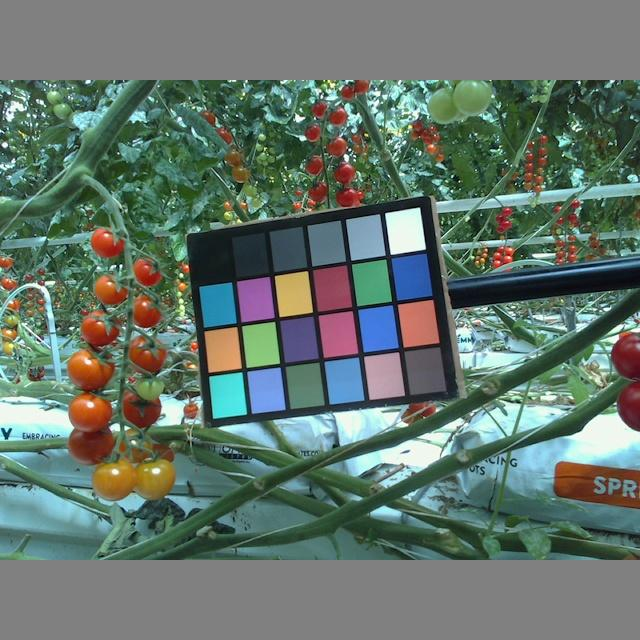green: (452, 81, 495, 117), (425, 86, 463, 124), (134, 378, 165, 399)
pink: (66, 348, 116, 388), (136, 458, 183, 499), (63, 395, 114, 429), (125, 333, 166, 371), (72, 428, 115, 464), (94, 464, 132, 502), (121, 391, 163, 425), (82, 312, 120, 347), (119, 428, 156, 461), (88, 226, 123, 257), (132, 293, 163, 327), (93, 273, 127, 303), (130, 257, 160, 286)
red: (611, 332, 640, 379), (619, 379, 640, 429)
